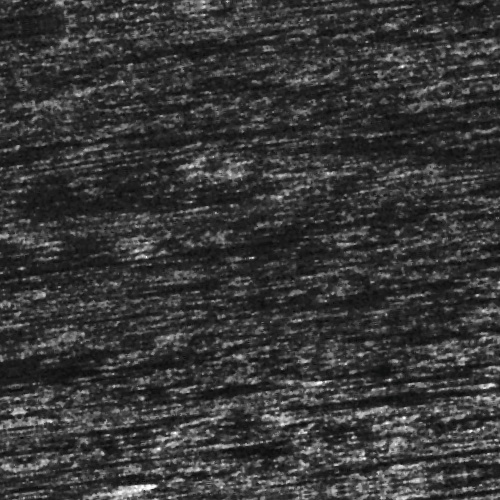object: (63, 460, 156, 479), (67, 123, 130, 134), (0, 387, 75, 394), (458, 409, 500, 418), (0, 482, 60, 487), (273, 385, 326, 390), (24, 214, 87, 217), (370, 311, 423, 314)
shadow: (0, 460, 109, 479), (341, 469, 500, 482), (296, 403, 500, 412), (298, 409, 499, 418), (328, 18, 500, 23), (21, 123, 99, 134), (157, 385, 299, 390), (423, 396, 500, 401), (326, 311, 396, 314), (0, 387, 28, 394), (0, 214, 56, 217)
